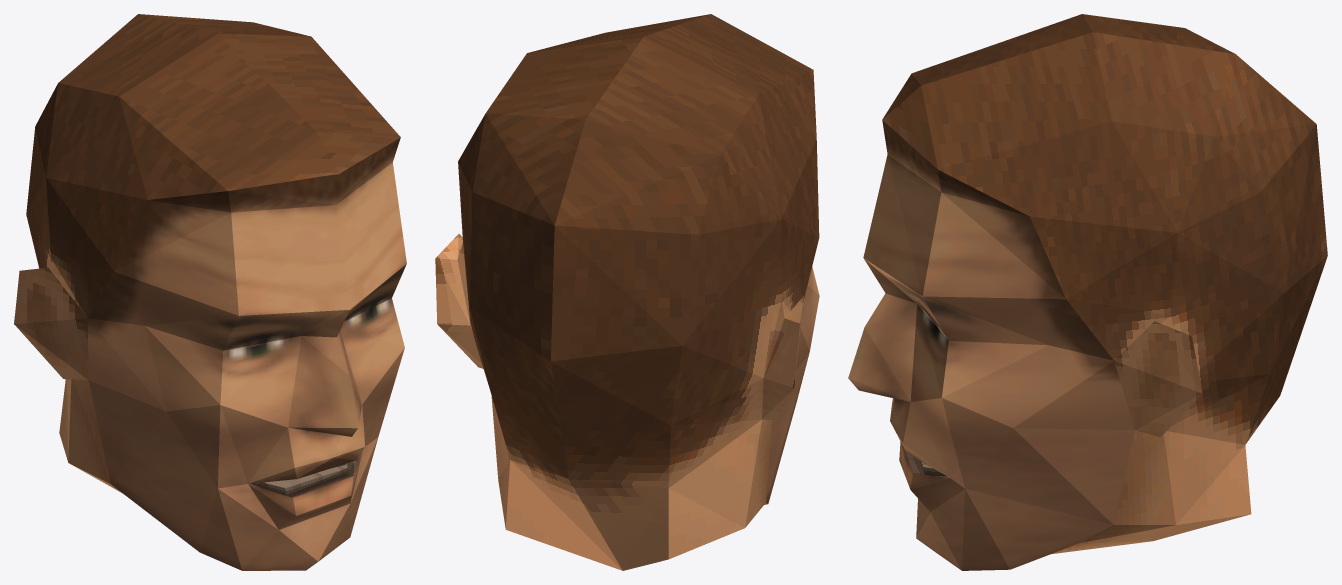
The model's file is CutterHead.obj.
The picture shows the model from 3 angles, left to right: view 1: azimuth 30°, elevation 25°; view 2: azimuth 150°, elevation 25°; view 3: azimuth 270°, elevation 25°; orthographic projection. The views are drawn at different scales.
Parts seen in each view (by area): view 1: Regroup51.001; view 2: Regroup51.001; view 3: Regroup51.001.
Boxes of the visible parts, bbox=[...] form: Regroup51.001: bbox=[14, 14, 406, 570]; Regroup51.001: bbox=[435, 14, 819, 570]; Regroup51.001: bbox=[848, 14, 1327, 570].
Bounding box in the file's own units: 0.1108 × 0.1623 × 0.1339.
